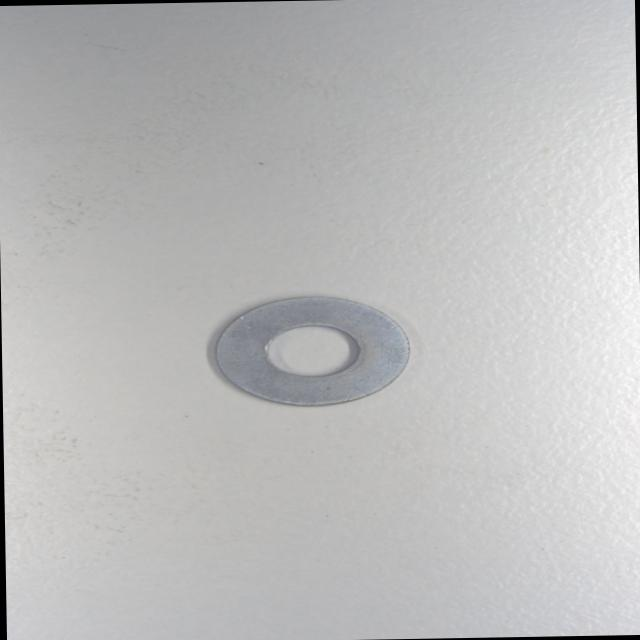washer: (210, 293, 412, 407)
